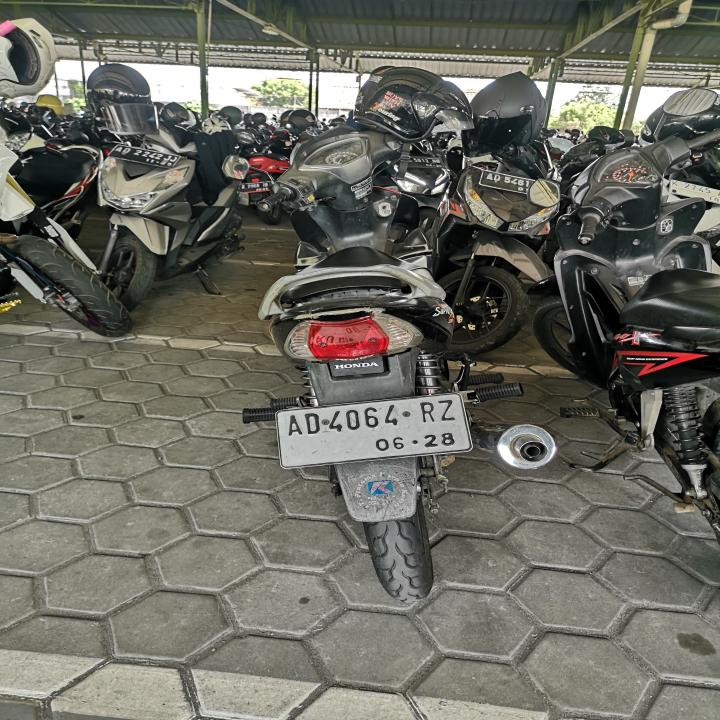plate: (272, 389, 473, 473), (107, 144, 182, 170), (479, 169, 538, 193), (670, 179, 720, 205)
